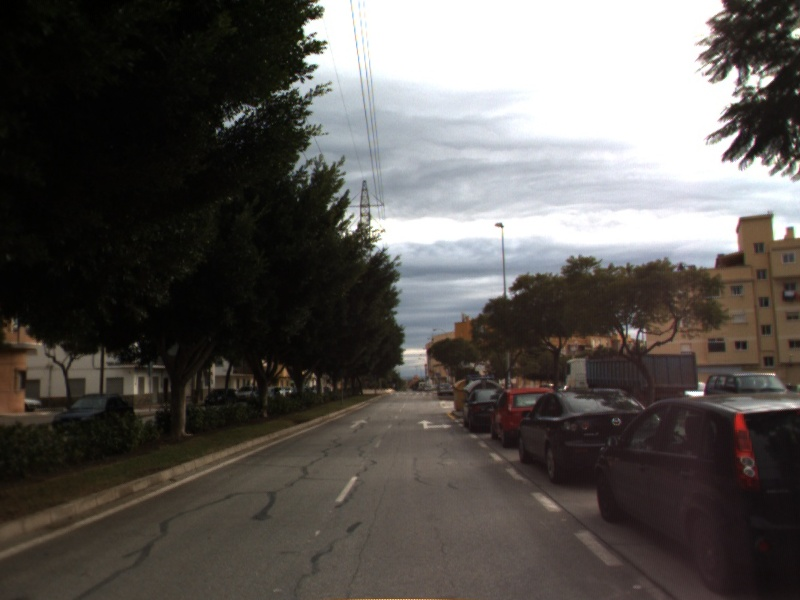STRAIGHT: (347, 417, 370, 430)
STRAIGHT_RIGHT: (415, 417, 455, 431)
